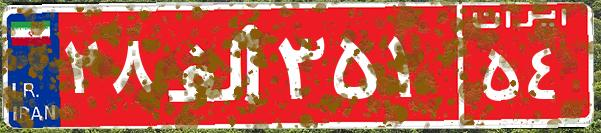1: (385, 28, 445, 110)
2: (57, 26, 110, 107)
3: (273, 28, 330, 110)
4: (525, 38, 570, 115)
5: (330, 28, 385, 110), (475, 38, 525, 113)
8: (110, 28, 158, 105)
الف: (158, 15, 273, 115)
